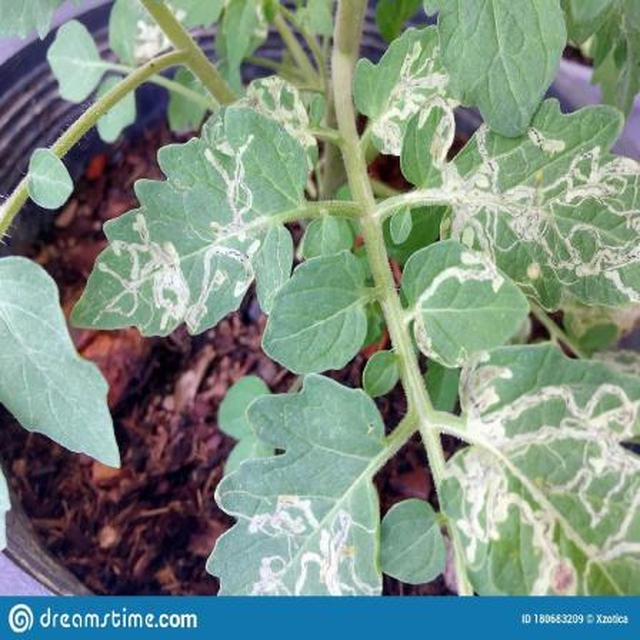Leaf Miner: (87, 130, 640, 640)
